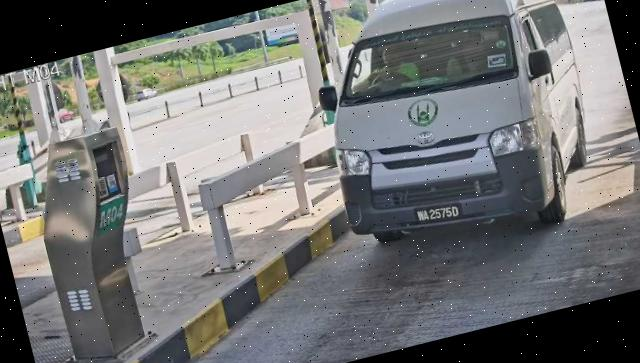License_Plate: (412, 197, 467, 234)
van: (299, 1, 613, 273)
